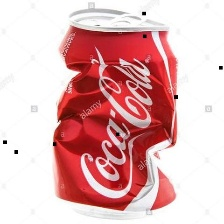can: (47, 1, 187, 221)
